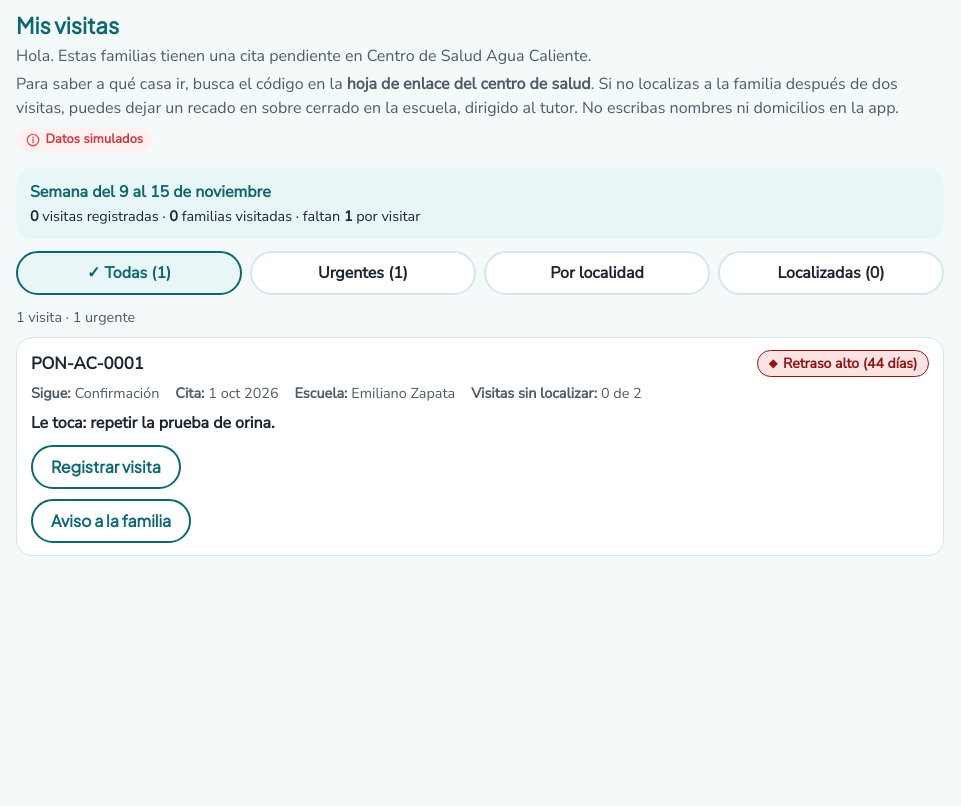
Test: Registrar visita (HU05) › solo ofrece "Localizada" y "No localizada"
Click the button "Registrar visita": [106, 467] box left=31, top=445, right=181, bottom=489
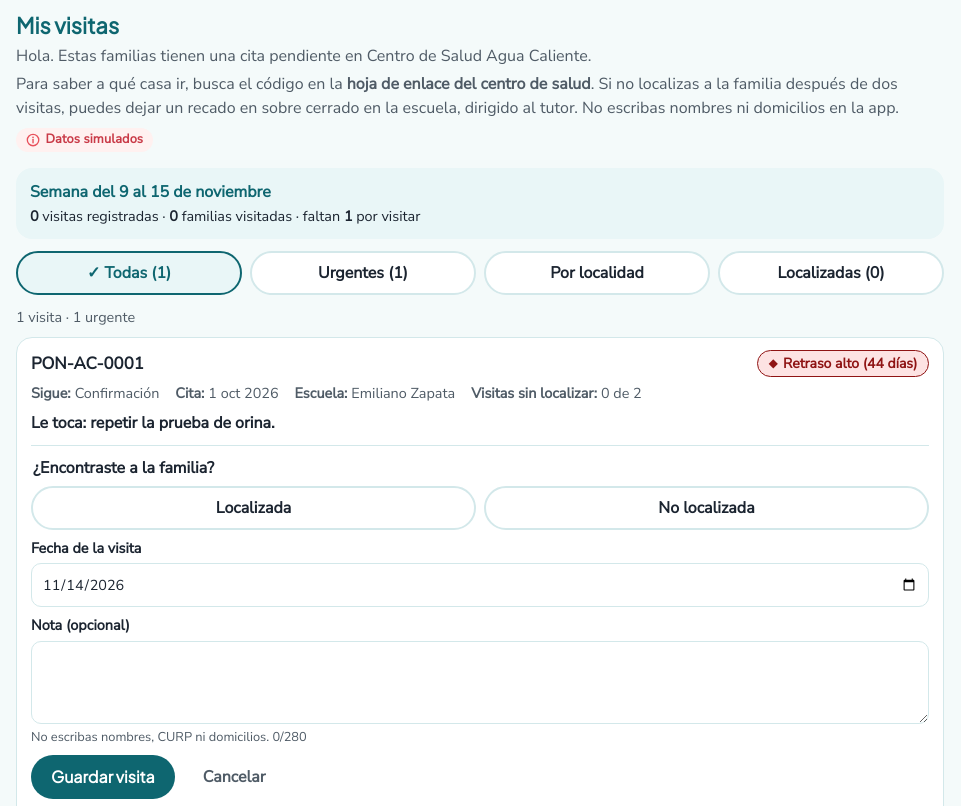
Check: the button "Localizada" is shown, box left=31, top=486, right=476, bottom=530
Check: the button "No localizada" is shown, box left=484, top=486, right=929, bottom=530
Check: the date field labelled "Fecha de la visita" holds "2026-11-14", box left=31, top=563, right=929, bottom=607
